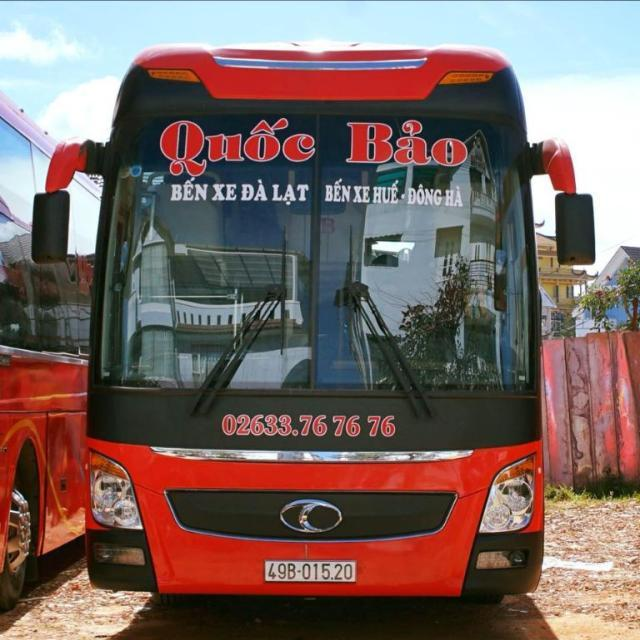car: (67, 3, 560, 611)
plate: (257, 553, 364, 590)
